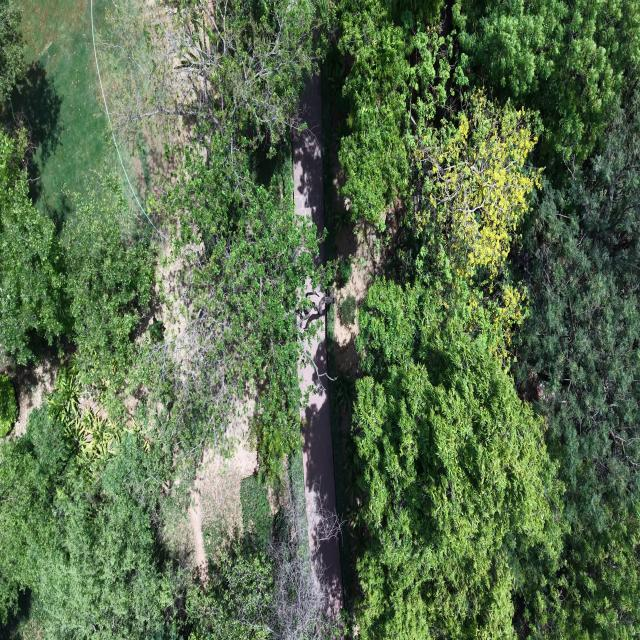DRY_AREA: (323, 82, 403, 607), (12, 0, 114, 222), (164, 398, 257, 583), (164, 399, 257, 583), (300, 312, 343, 613), (189, 402, 257, 582), (0, 352, 58, 437)
VEGETATION_TREE: (0, 0, 639, 639), (0, 4, 330, 638), (353, 3, 639, 637), (2, 5, 321, 468), (353, 93, 562, 638), (112, 0, 327, 475), (0, 130, 177, 637), (0, 371, 329, 638), (353, 280, 560, 638), (336, 0, 639, 223), (516, 96, 639, 637), (159, 134, 323, 475), (0, 405, 179, 638), (0, 129, 154, 379), (110, 0, 329, 167), (413, 92, 541, 355), (451, 0, 639, 173), (336, 0, 468, 228), (0, 0, 119, 229), (186, 477, 337, 639), (416, 93, 541, 286), (174, 0, 327, 143), (62, 177, 155, 393), (339, 3, 410, 223), (0, 128, 64, 363), (48, 359, 141, 477), (187, 543, 273, 639), (0, 0, 23, 99), (241, 475, 271, 548), (0, 374, 17, 437), (336, 371, 356, 406), (336, 256, 352, 286), (340, 295, 356, 324)
